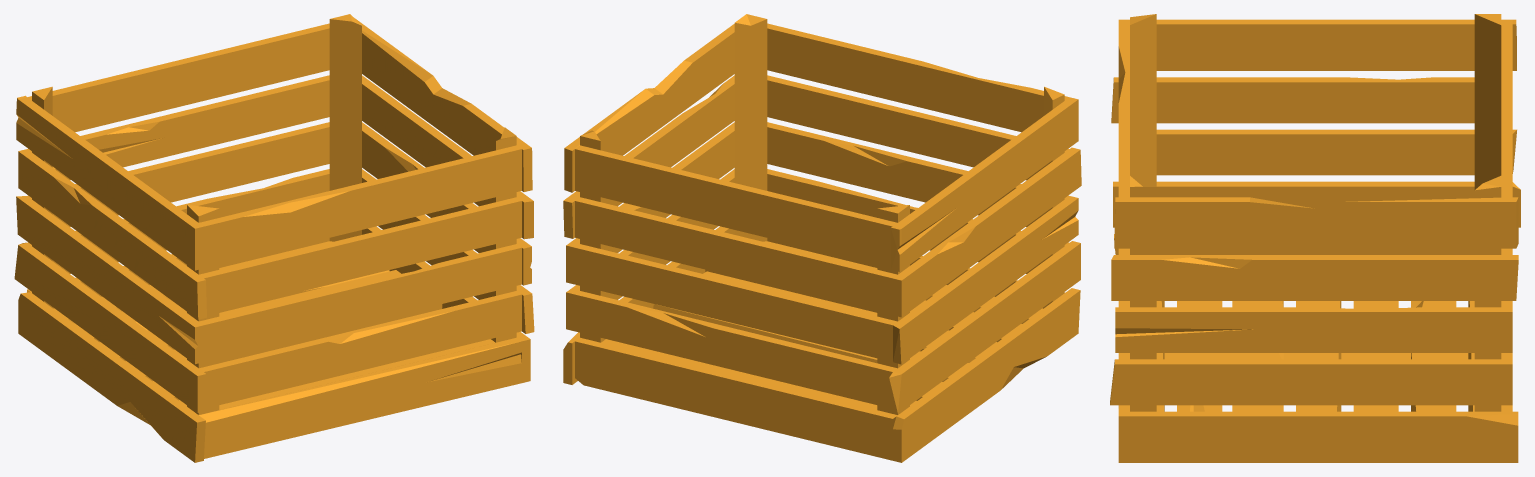
The model's file is SM_Crate_Wood_Big.fbx.
The picture shows the model from 3 angles, left to right: view 1: azimuth 30°, elevation 25°; view 2: azimuth 150°, elevation 25°; view 3: azimuth 270°, elevation 25°; orthographic projection. The views are drawn at different scales.
Parts seen in each view (by area): view 1: crate-wood-big; view 2: crate-wood-big; view 3: crate-wood-big.
Part boxes in pixels (x1,y1,x2,y2): crate-wood-big: [14, 14, 534, 462]; crate-wood-big: [563, 14, 1081, 462]; crate-wood-big: [1110, 14, 1520, 462].
Bounding box in the file's own units: 1.14 × 0.7904 × 1.08.
